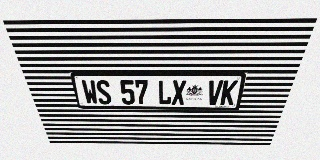5: (120, 80, 135, 105)
7: (134, 80, 149, 105)
K: (220, 80, 238, 105)
L: (158, 80, 172, 105)
S: (95, 80, 112, 104)
V: (206, 80, 224, 105)
W: (81, 80, 99, 104)
X: (172, 80, 186, 105)
